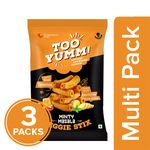plastic: (30, 23, 108, 140)
tooyumm: (45, 39, 90, 62)
wrapper: (28, 20, 108, 141)
